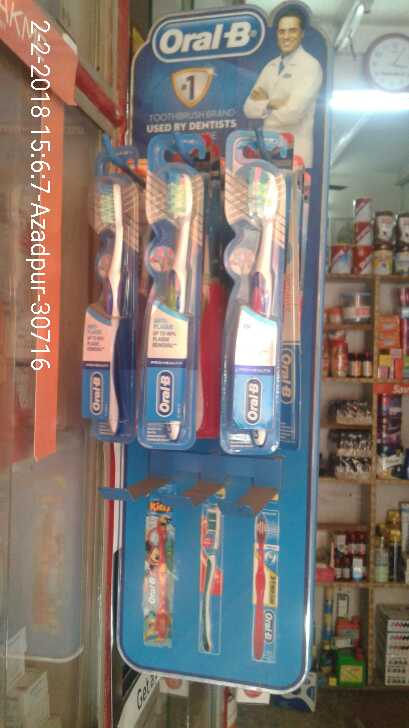oralb: (222, 166, 297, 441), (137, 171, 197, 443), (76, 173, 129, 425)
